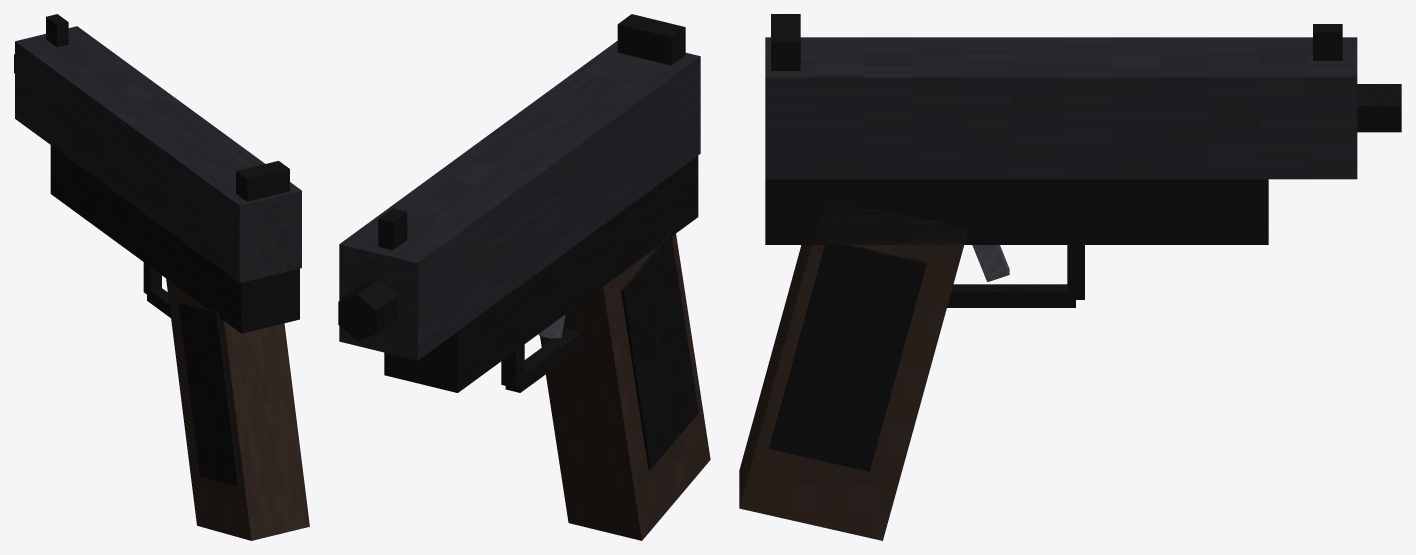
Rendered from weapon_pistol.glb.
3 renders of one model, left to right at view 1: azimuth 30°, elevation 25°; view 2: azimuth 150°, elevation 25°; view 3: azimuth 270°, elevation 25°, orthographic. The views are drawn at different scales.
Parts seen in each view (by area): view 1: weapon_pistol; view 2: weapon_pistol; view 3: weapon_pistol.
Boxes of the visible parts, <box> form: weapon_pistol: <box>14,14,309,540</box>; weapon_pistol: <box>338,14,710,540</box>; weapon_pistol: <box>739,14,1401,540</box>.
Size of the model in its own units: 0.032 by 0.1843 by 0.2238.
1 material, 1 textured.
